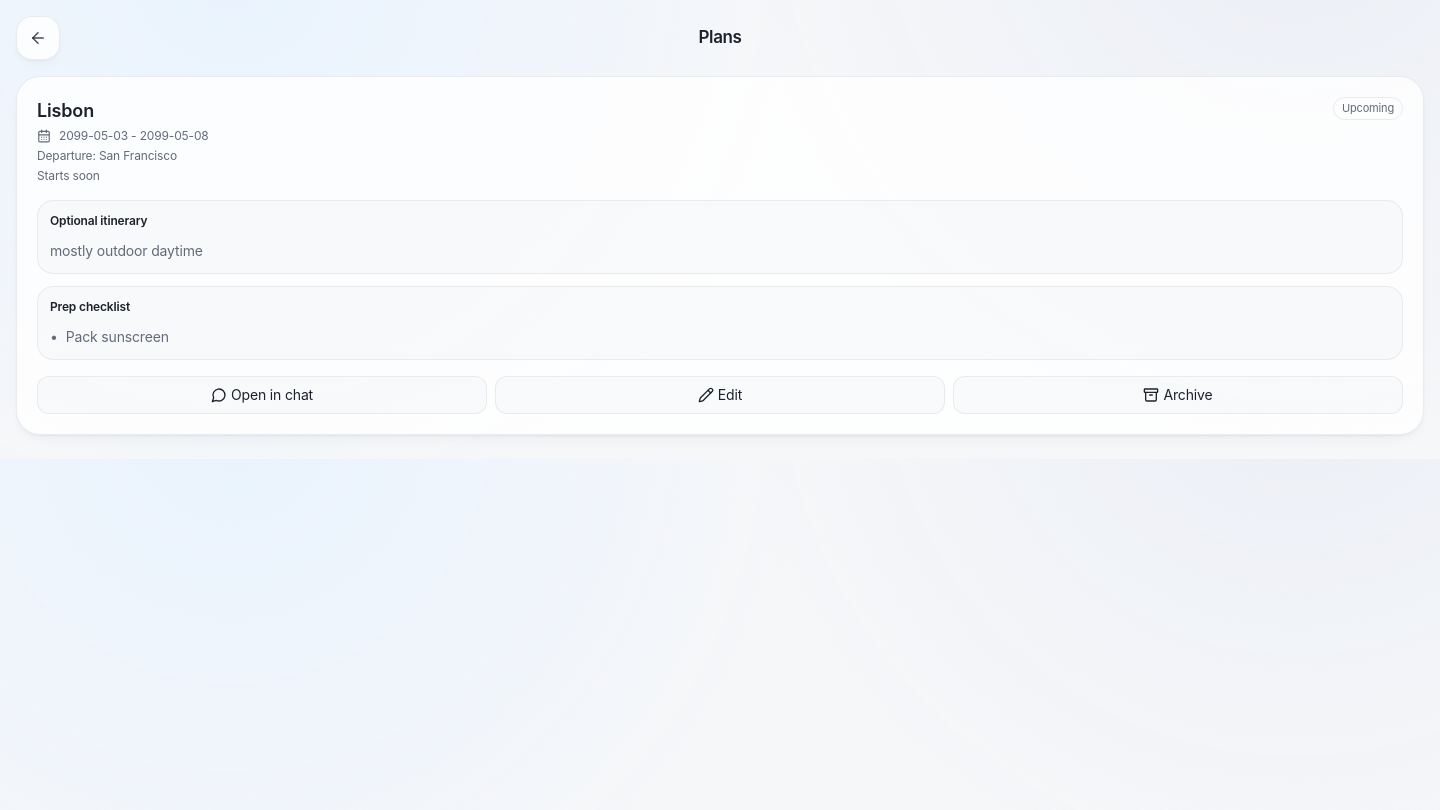
it: PlanDetails behavior › uses responsive travel date classes in edit panel
Check: the text "Lisbon" is shown, box [37,100,94,121]
Click the button "Edit" at (720, 395), box [495,376,945,414]
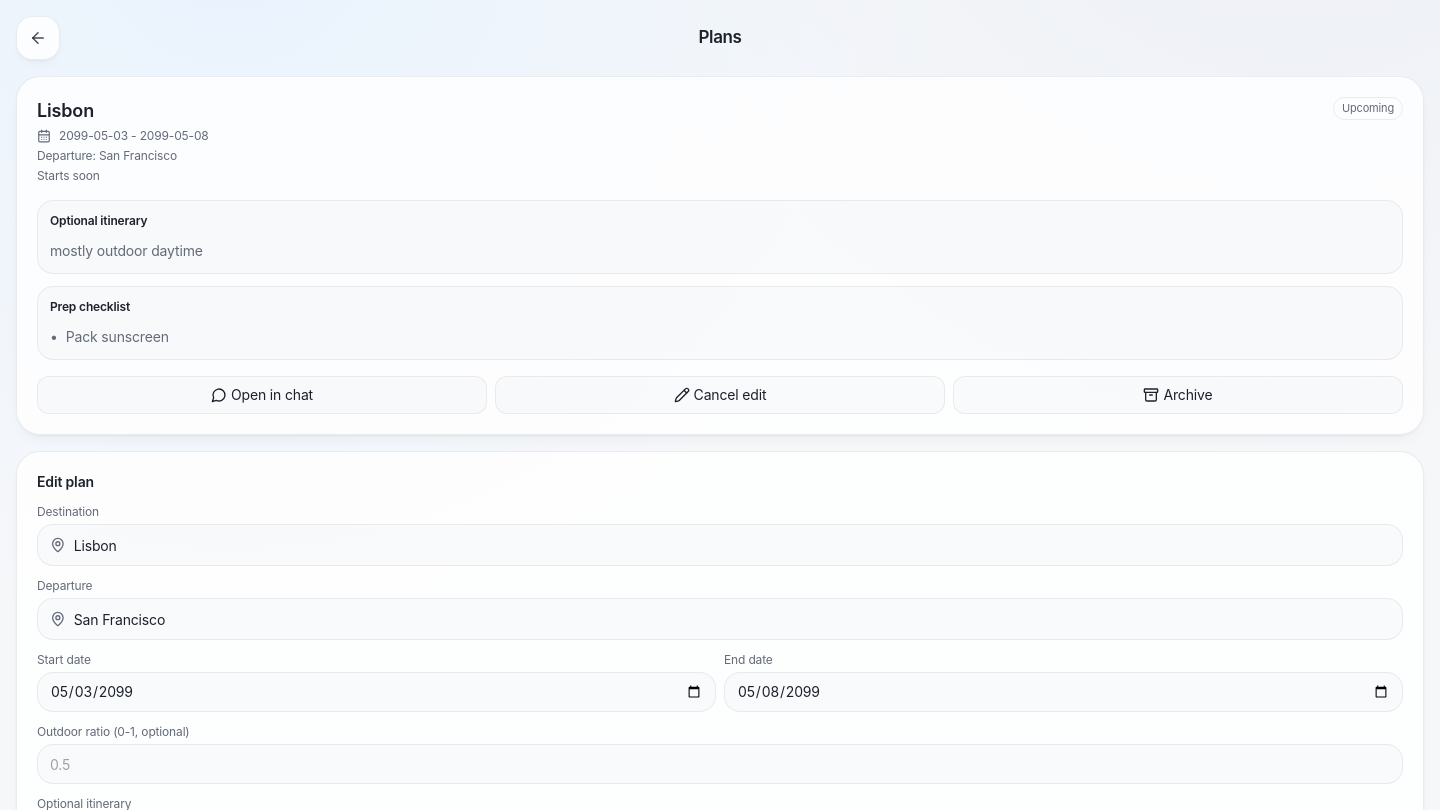
Check: the element labelled "Start date" is shown, box [37,652,1403,712]
